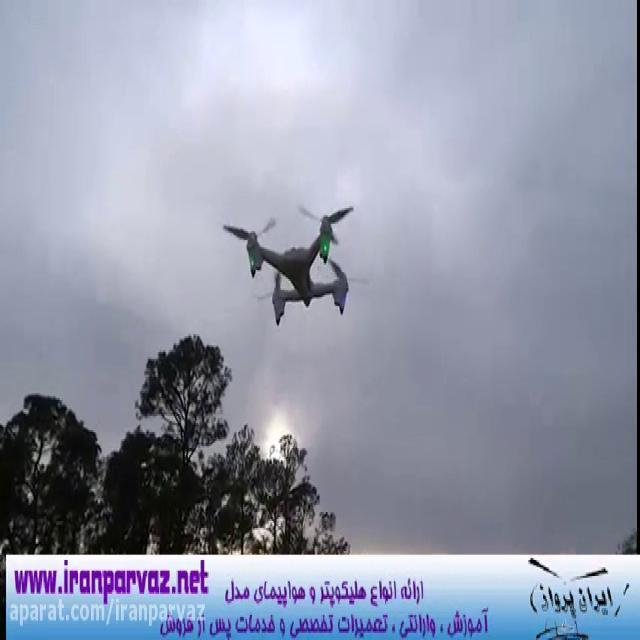drone: (218, 197, 368, 329)
